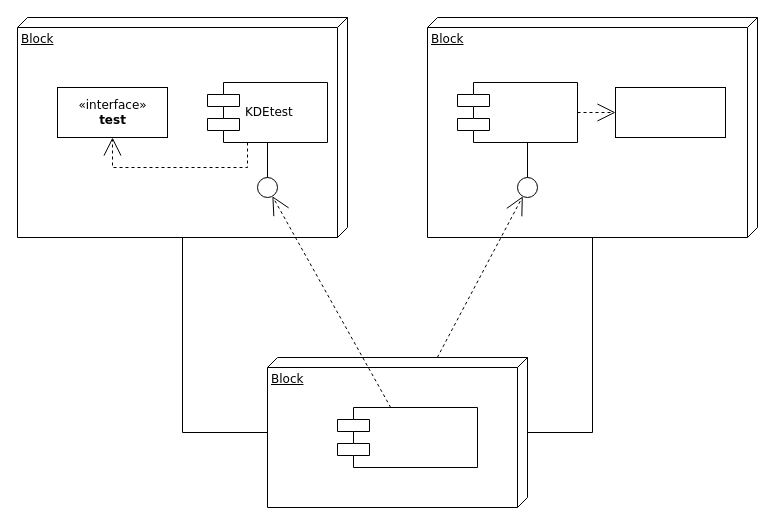
This 775x525 diagram has some shape labels left out. The shapes that lost their labels are listed below. From the top down, each one's box as (x1, y1, x2, y2) in pixels, then its label:
(456, 82, 578, 142): GRAS
(614, 86, 726, 138): «interface» simulator
(336, 406, 478, 468): Genetic algorithm
